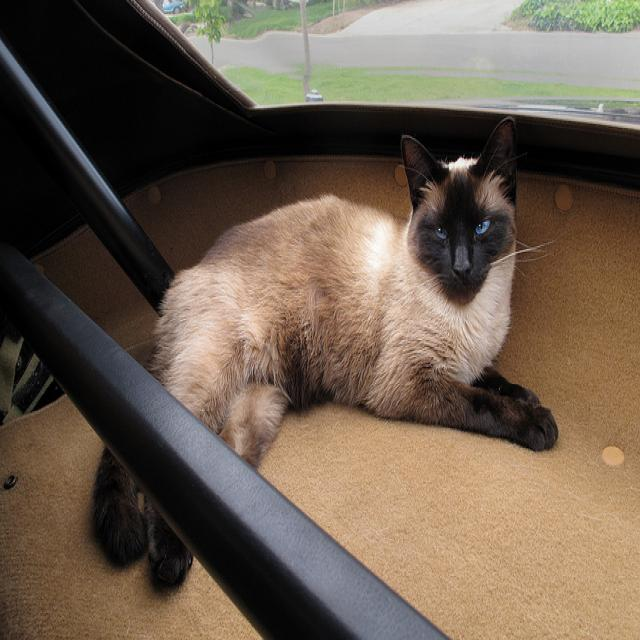Vehicle: (153, 0, 184, 14)
